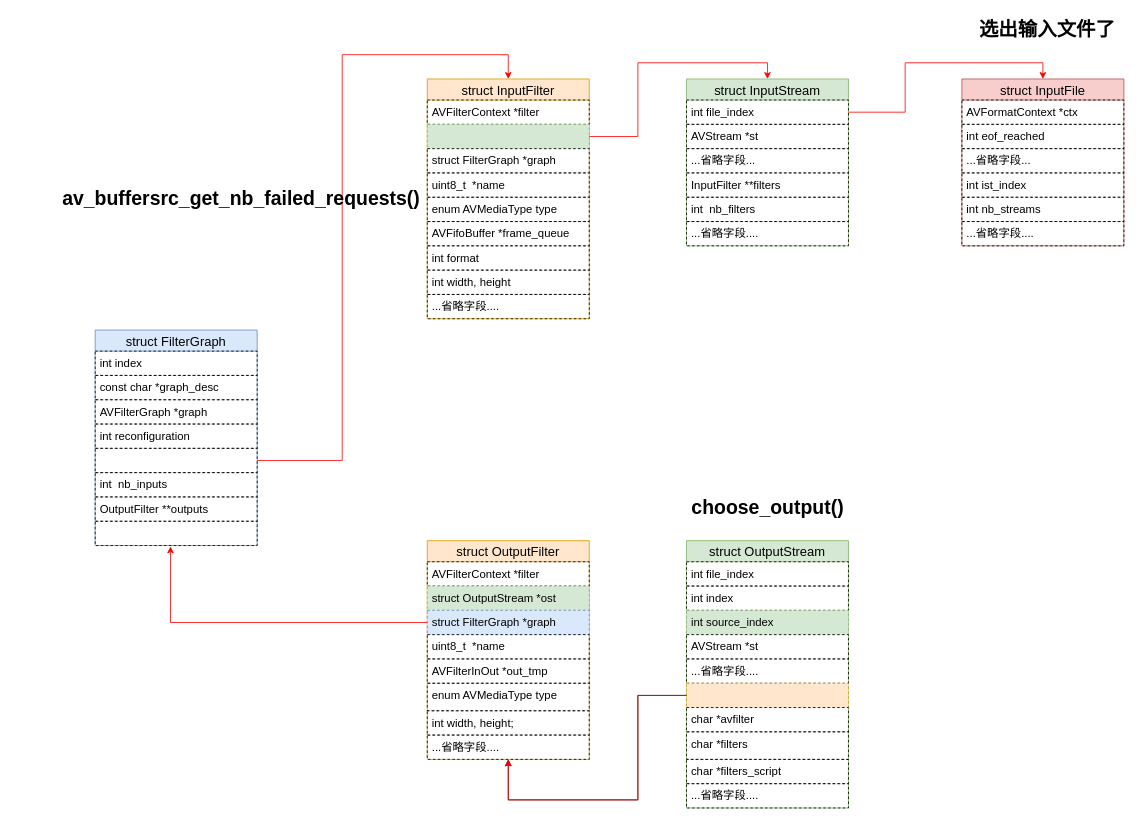
This 1138x824 diagram has some shape labels left out. The shapes that lost their labels are listed below. From the top down, each one's centre as x and y in pixels, then its label:
the point at 507,136: struct InputStream *ist
the point at 175,460: InputFilter **inputs
the point at 175,533: int nb_outputs
the point at 767,695: OutputFilter *filter
